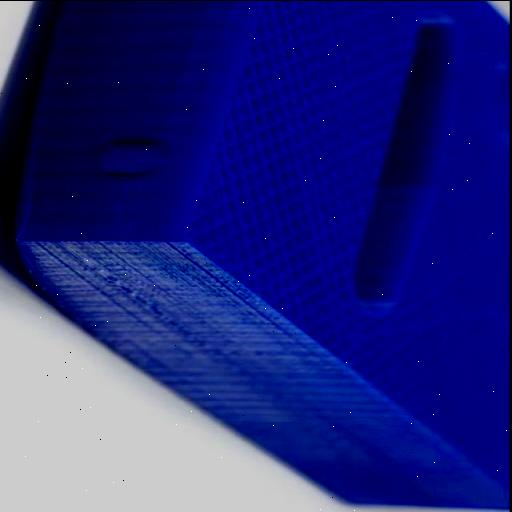cracks: (96, 119, 177, 194)
